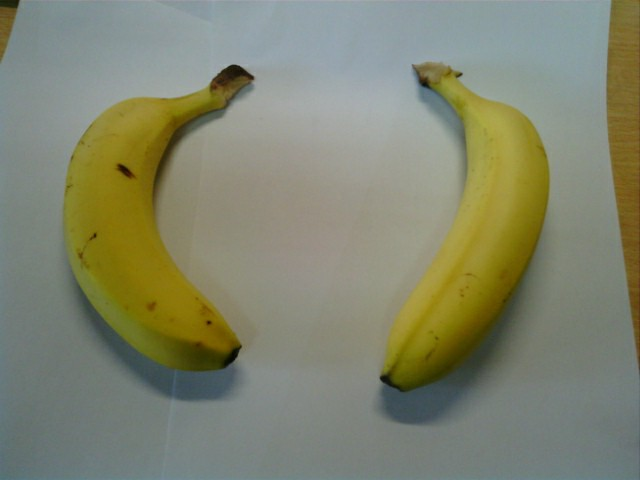fresh_banana: (378, 63, 551, 393)
normal_banana: (63, 69, 241, 370)
